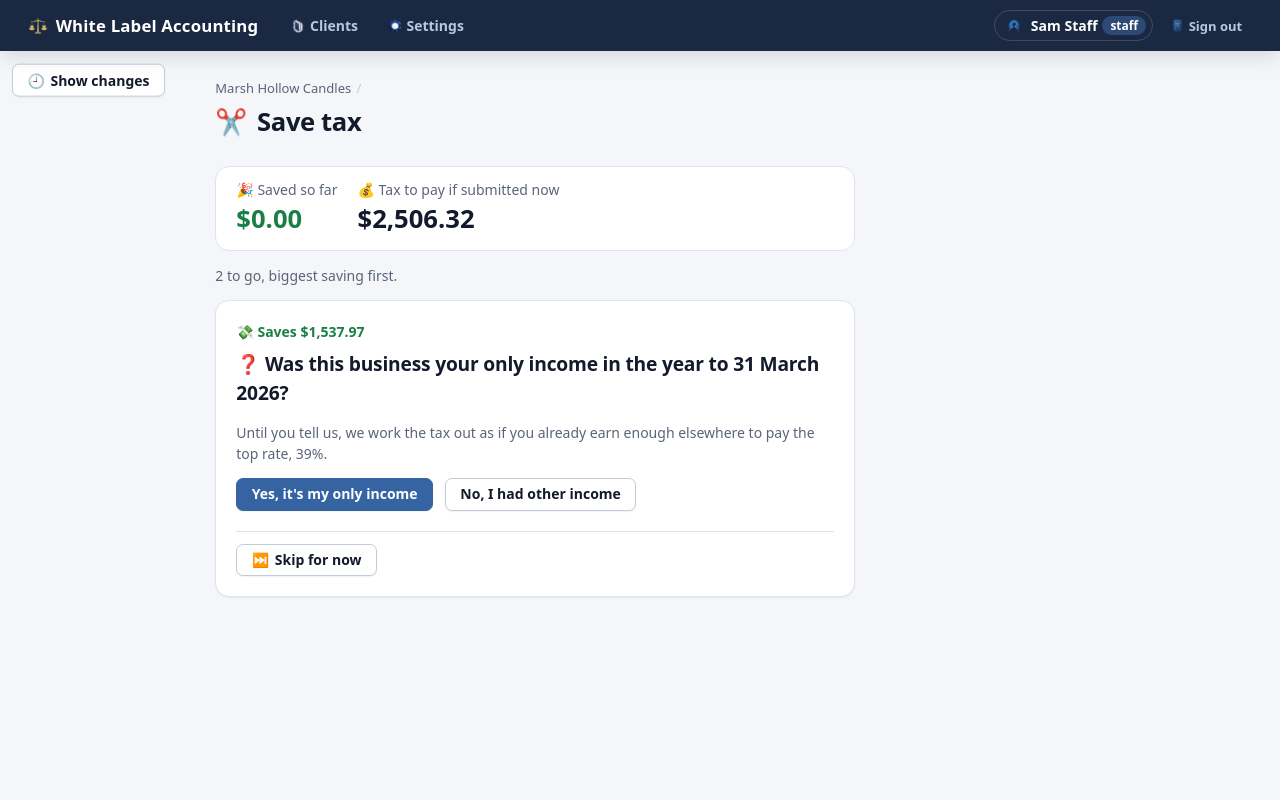
Test: save tax › skips a card for now and can bring it back
Expected: the heading "Was this business your only income" is shown, [265,350,626,377]
Step 1. Click the button "⏭️ Skip for now" → click(307, 560), box [236,544,377,576]
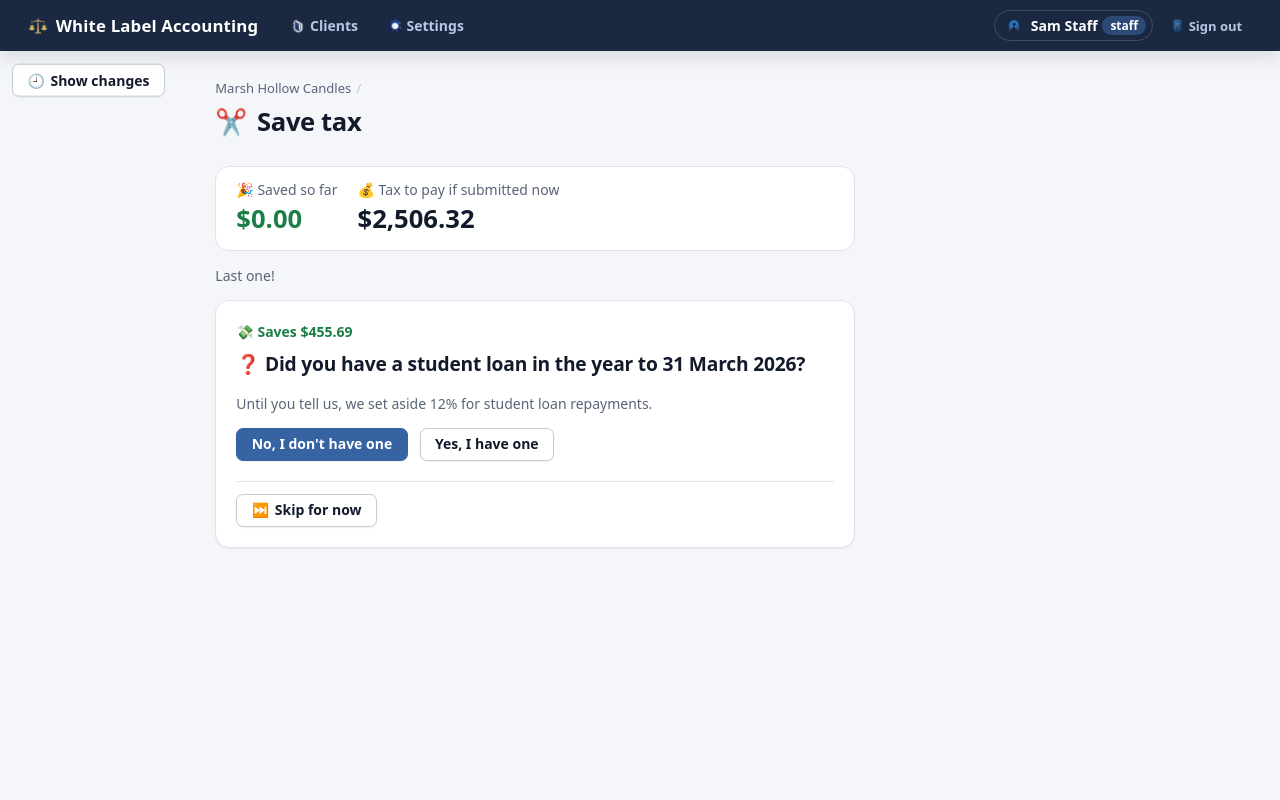
Now the heading "❓ Did you have a student loan in the year to 31 March 2026?" is shown, box [236,350,834,379]
Now the text "Last one!" is shown, box [215,266,275,285]
Step 2. Click the button "⏭️ Skip for now" → click(307, 510), box [236,494,377,527]
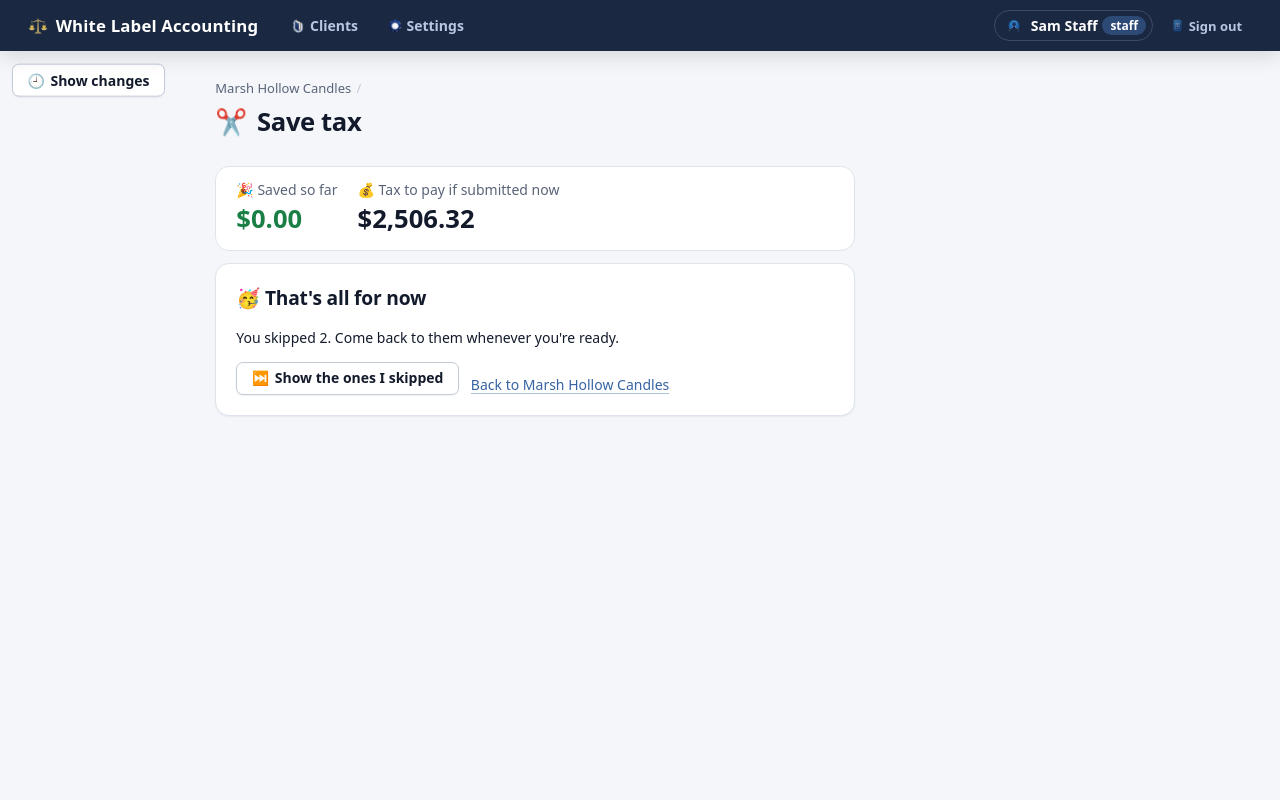
Now the text "You skipped 2. Come back to them whenever you're ready." is shown, box [236,328,619,347]
Step 3. Click the button "⏭️ Show the ones I skipped" → click(348, 378), box [236,362,459,395]
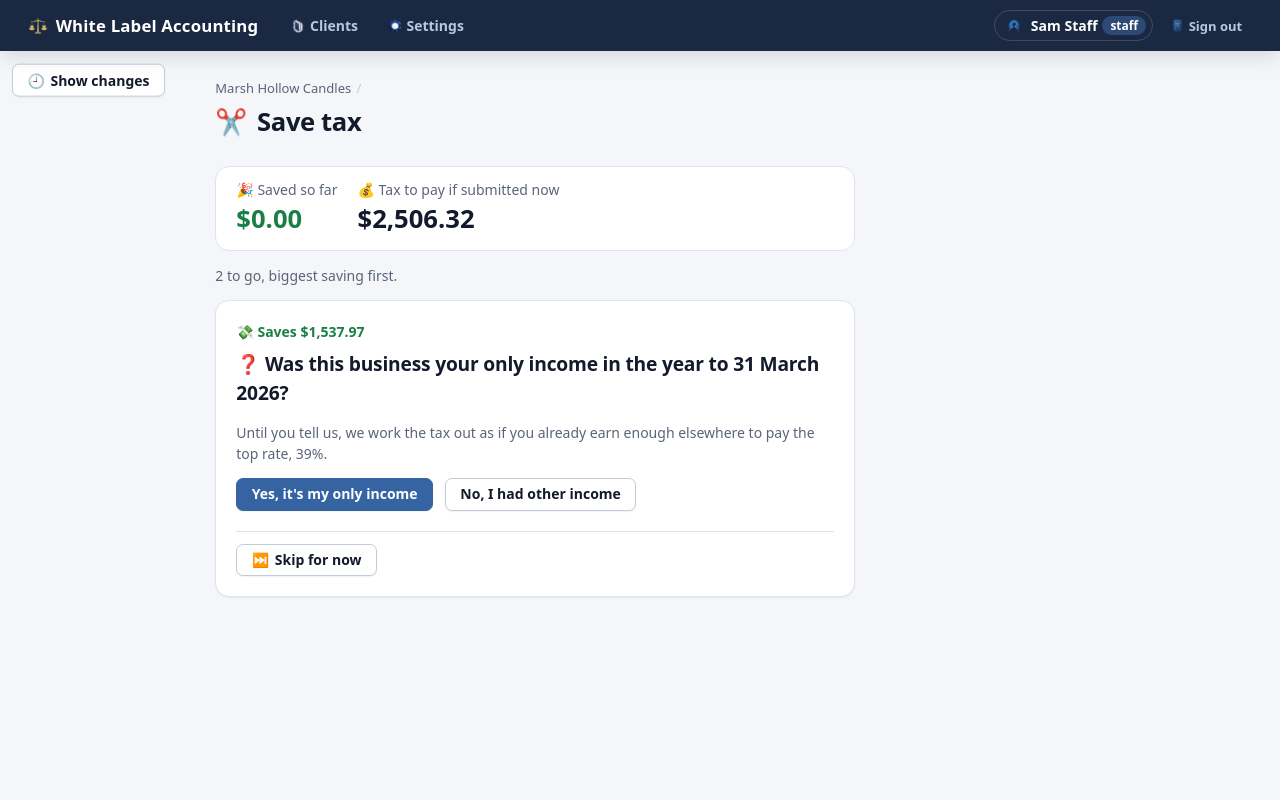
Now the heading "Was this business your only income" is shown, box [265,350,626,377]
